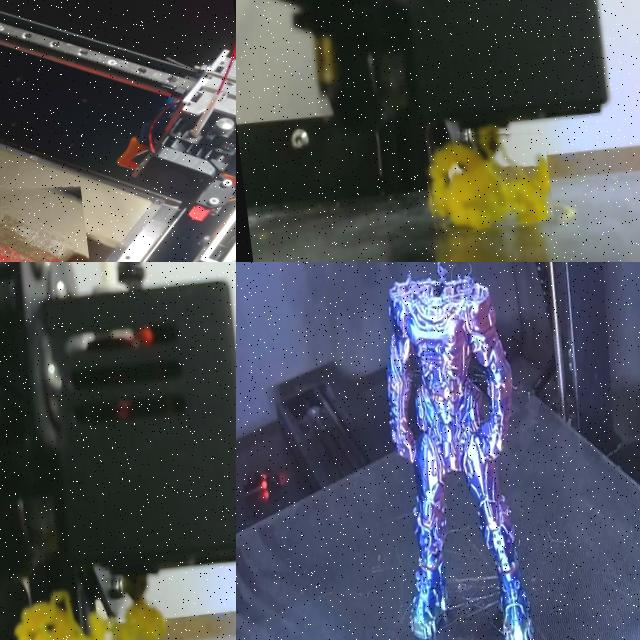spaghetti: (430, 133, 550, 229), (14, 590, 104, 640), (113, 601, 165, 640)
